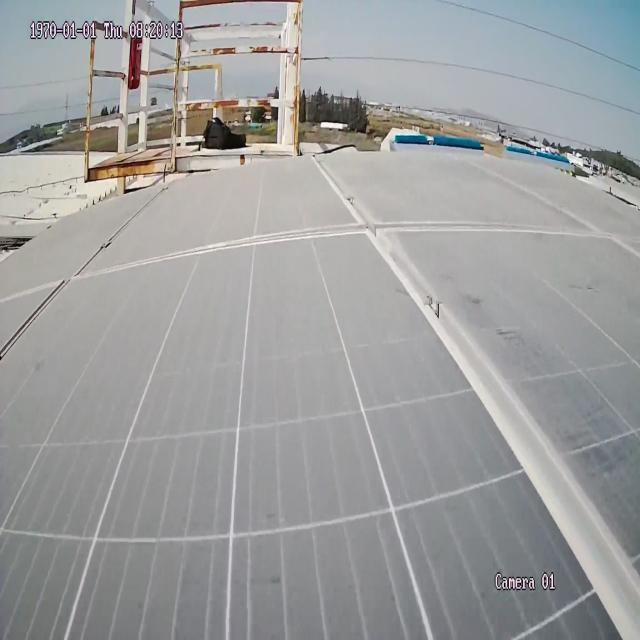interior panel: (0, 154, 639, 640)
